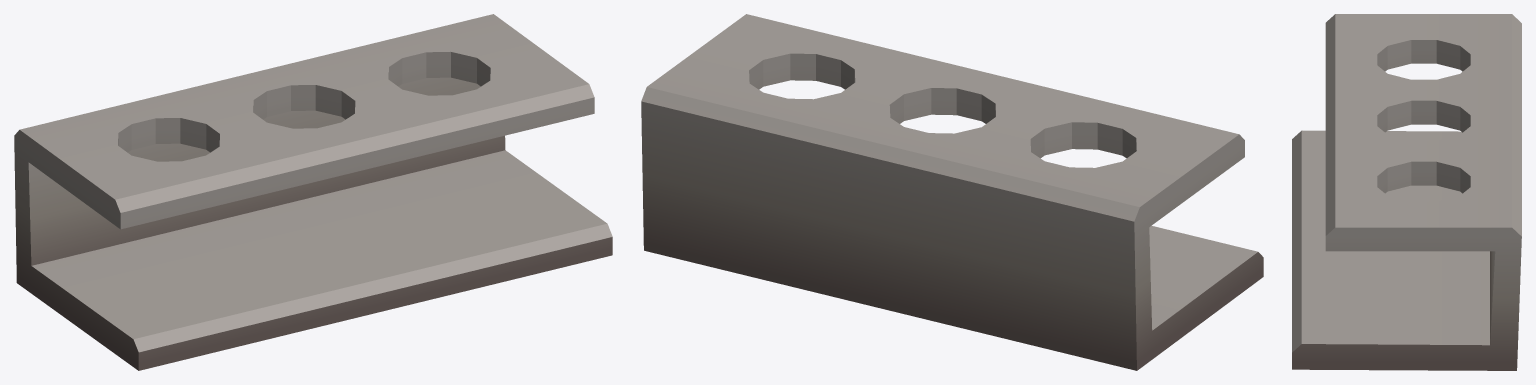
File: cone_holder.gltf
3 renders of one model, left to right at view 1: azimuth 30°, elevation 25°; view 2: azimuth 150°, elevation 25°; view 3: azimuth 270°, elevation 25°, orthographic. The views are drawn at different scales.
Visible parts, largest first — view 1: Cube; view 2: Cube; view 3: Cube.
Part boxes in pixels (x1,y1,x2,y2): Cube: (14, 14, 612, 370); Cube: (641, 14, 1263, 370); Cube: (1292, 14, 1521, 370).
Size of the model in its own units: 1.73 by 0.5422 by 0.7871.
1 material, 1 textured.
